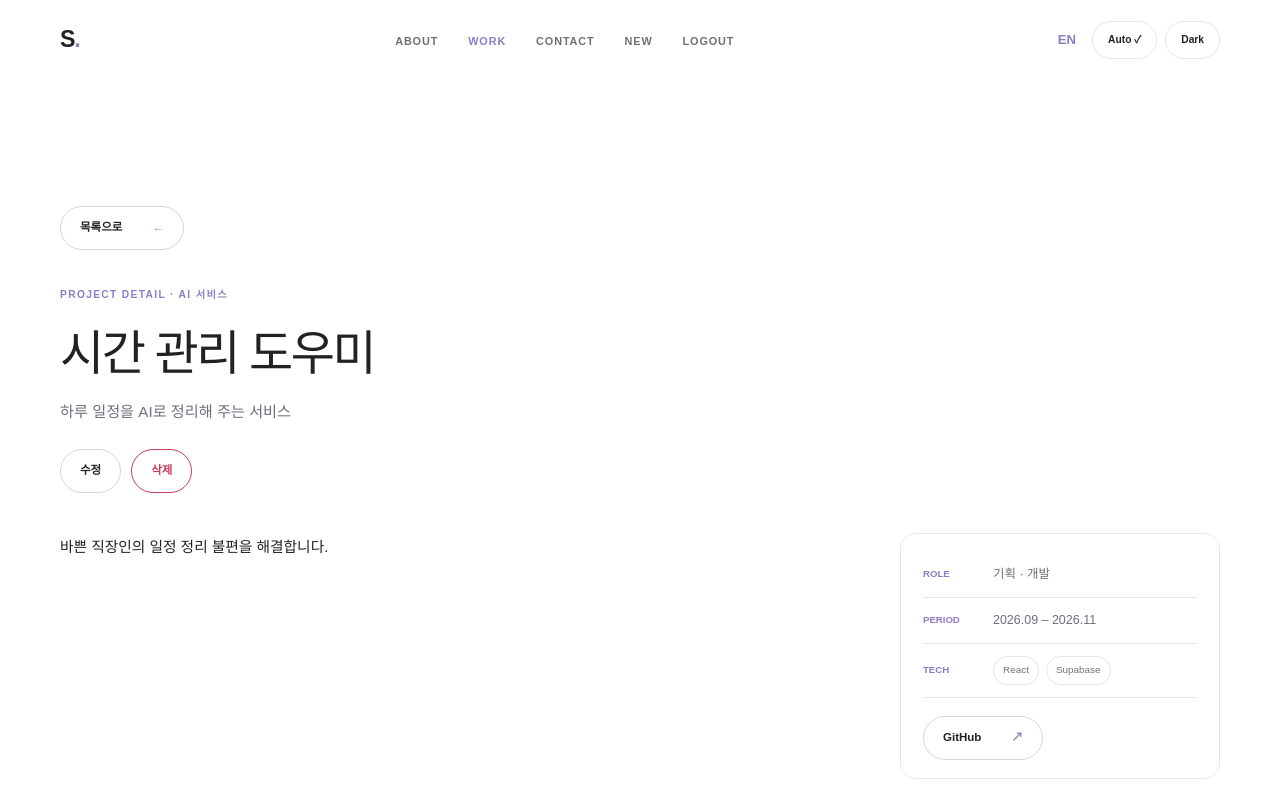
Test: 상세 화면 (/projects/:id) › 삭제가 거절되면(RLS) 상세 화면에 머물며 실패 이유를 보여준다
Click the button "삭제" at (162, 471), box [131, 449, 192, 493]
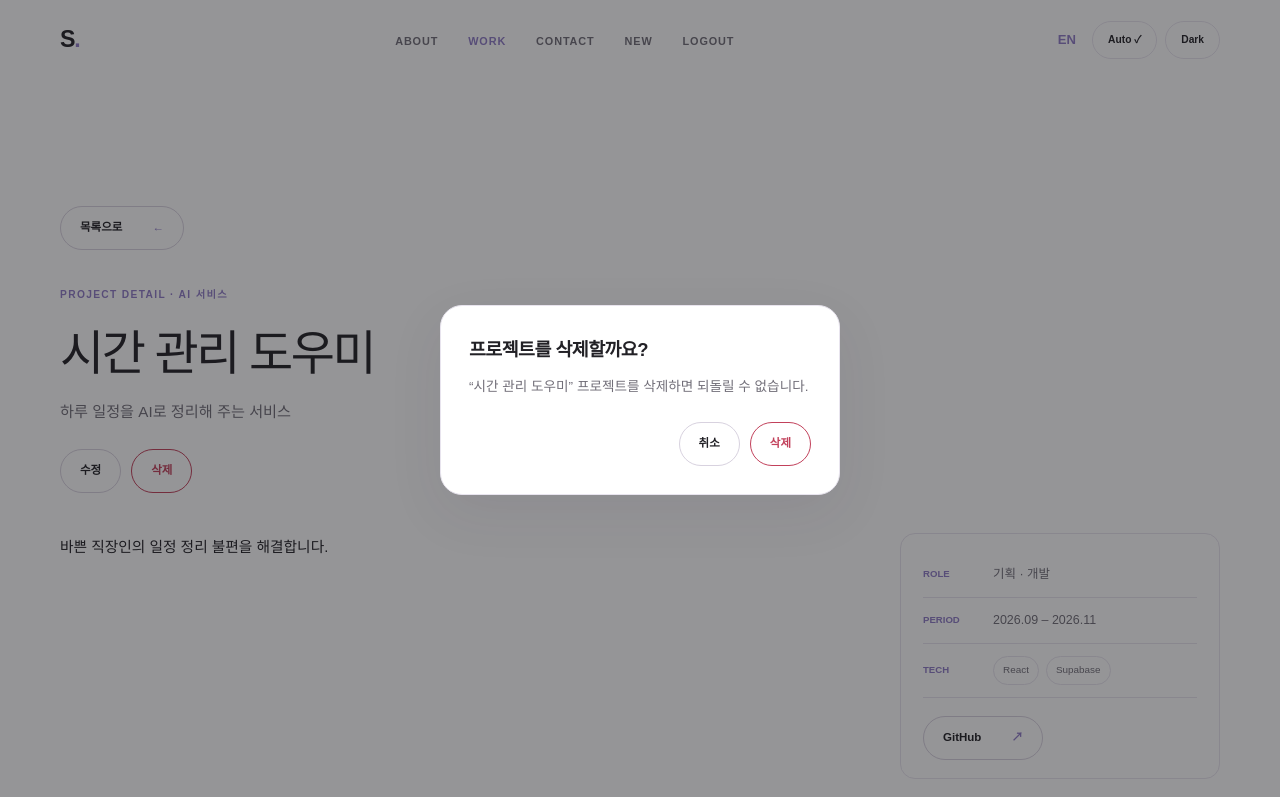
Click the button "삭제" at (780, 444), box [750, 422, 811, 466]
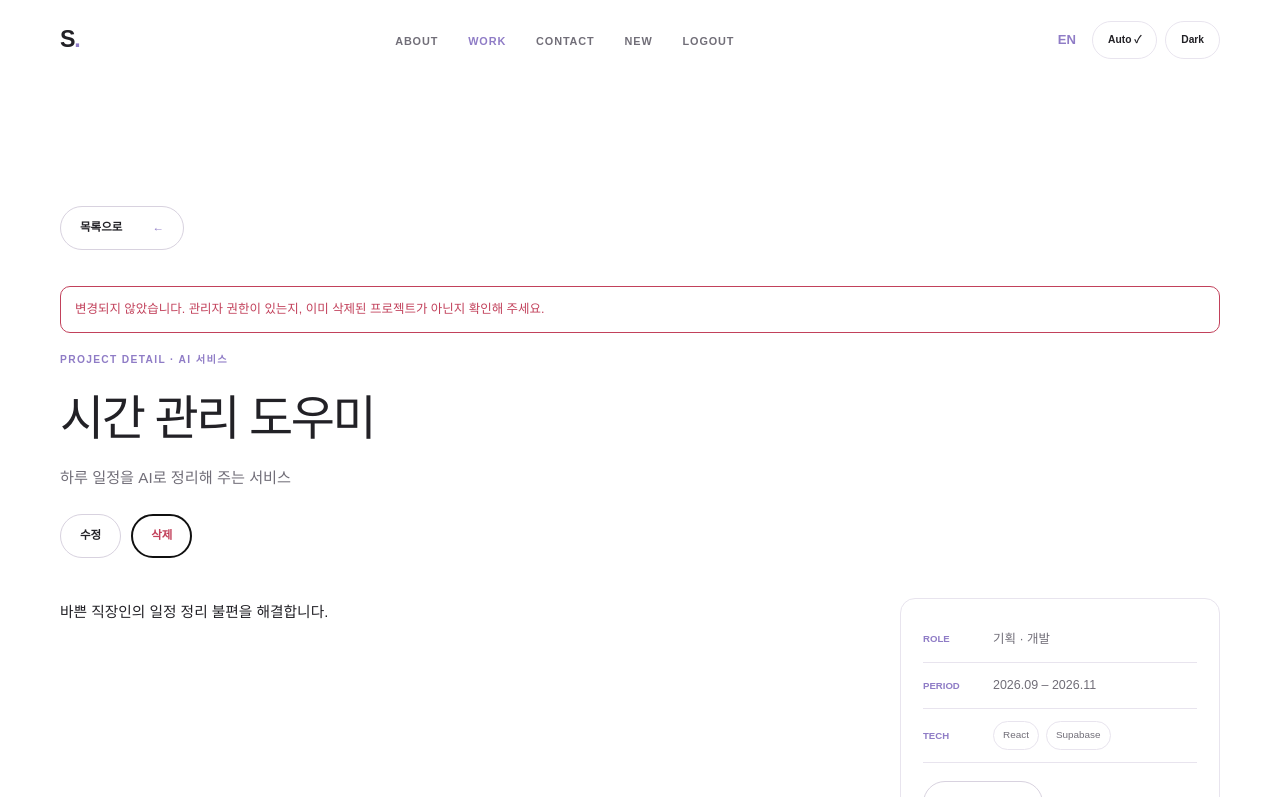
Expected: the heading "시간 관리 도우미" is shown, [60, 392, 374, 445]
Now the message shows "변경되지 않았습니다", box [75, 302, 544, 316]
Now the dialog is gone
